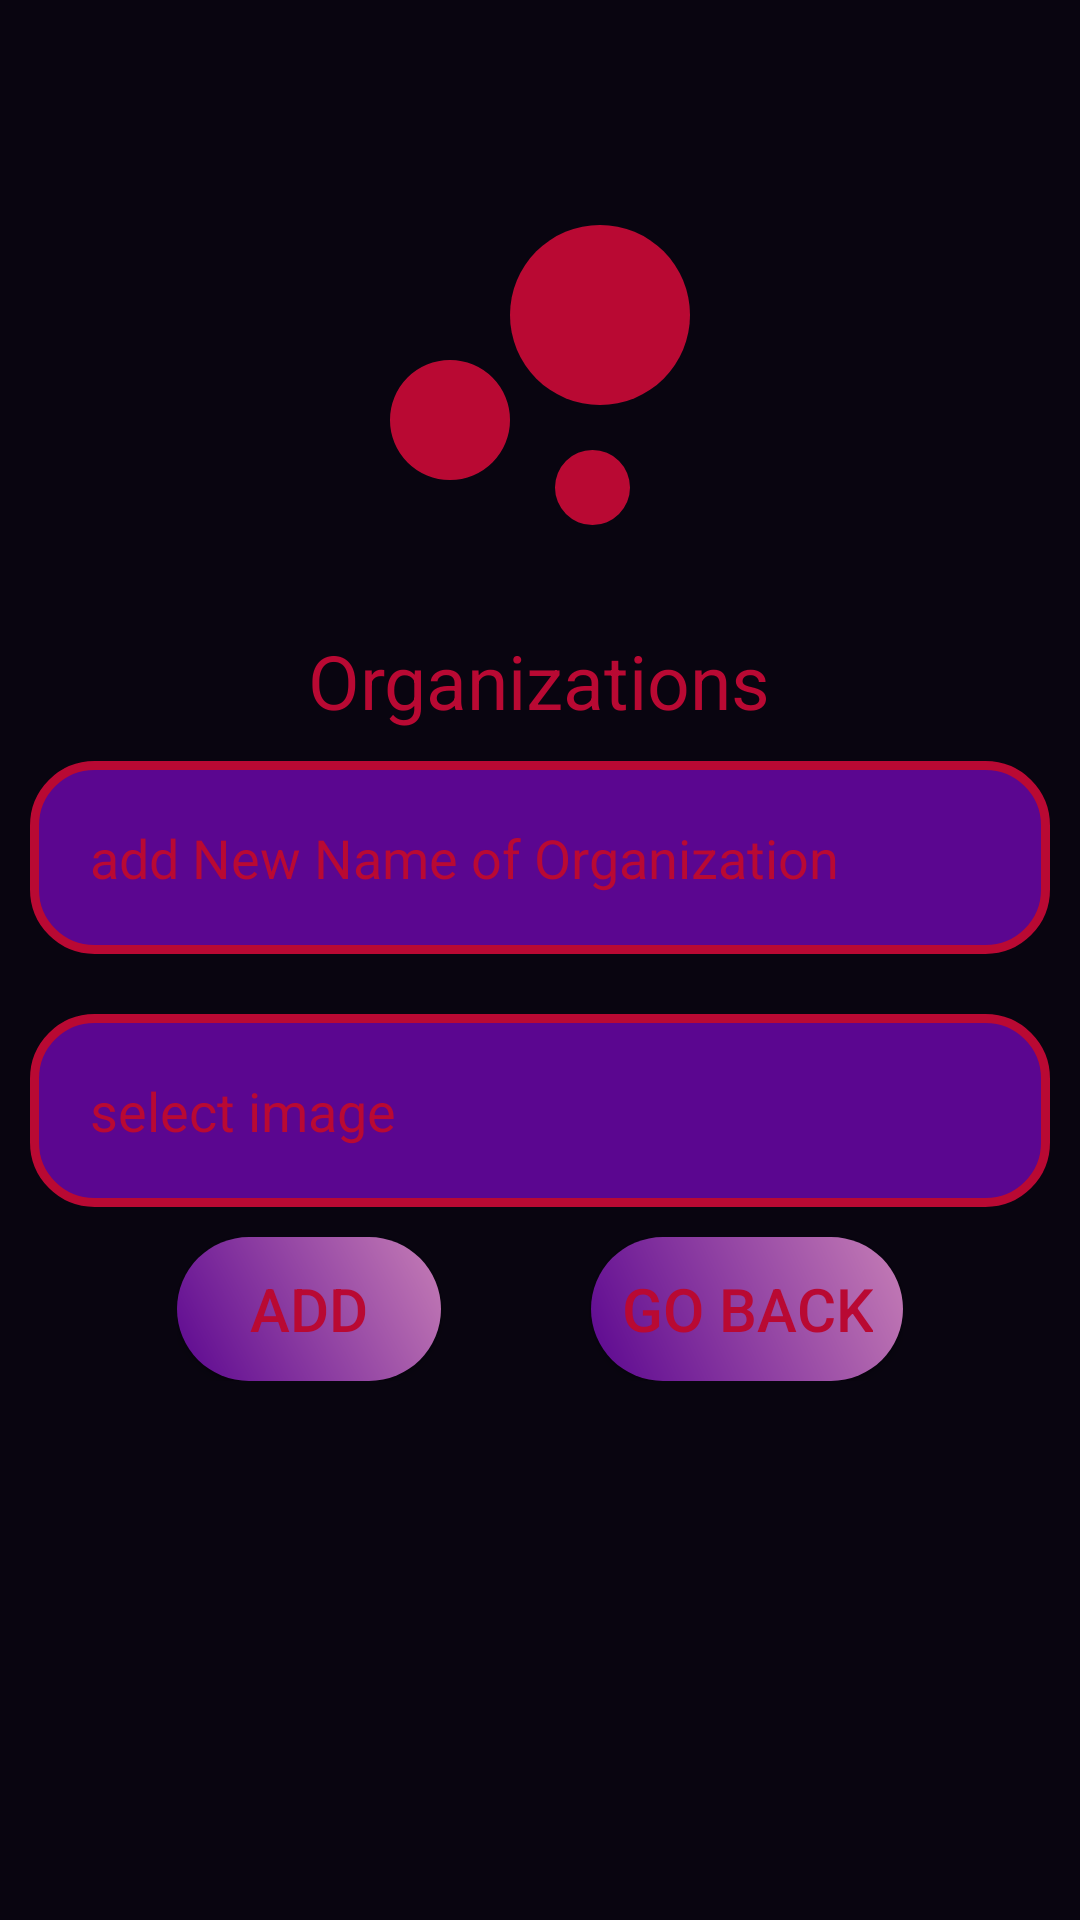

Where icons sit on this 1080px x 1920px app screen, as bbox(x1, y1, x2, y2):
bubble chart: bbox(390, 225, 690, 525)
